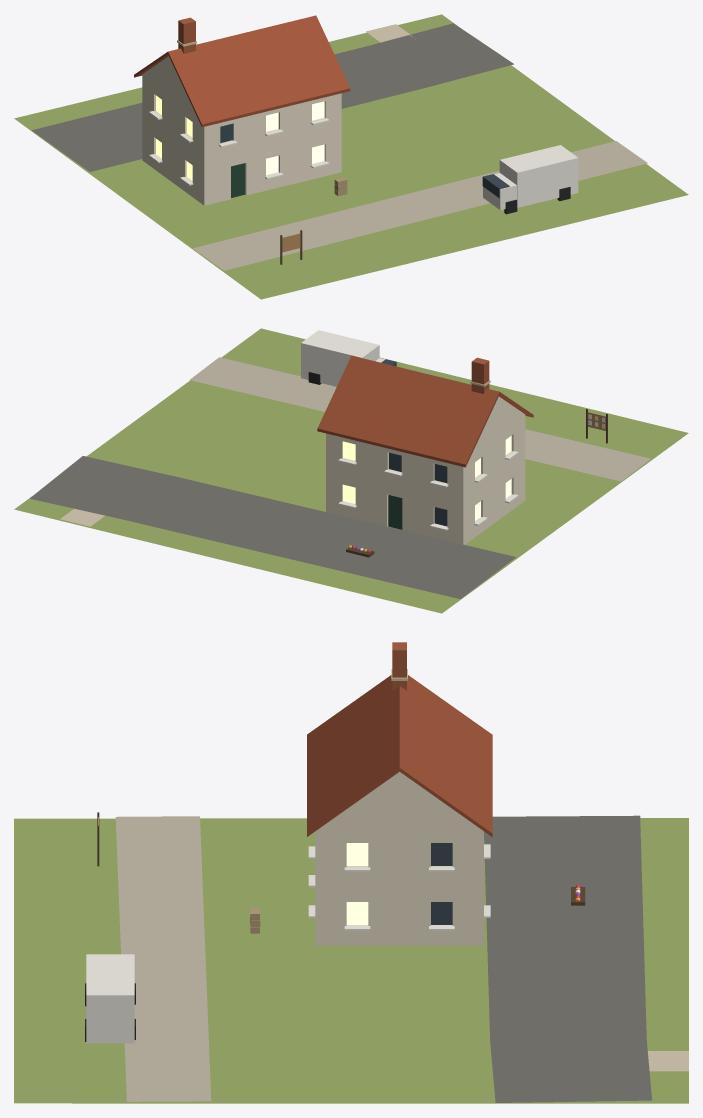
Rendered from tea_room-evening.glb.
The picture shows the model from 3 angles, top to bottom: view 1: azimuth 30°, elevation 25°; view 2: azimuth 150°, elevation 25°; view 3: azimuth 270°, elevation 25°; orthographic projection. The views are drawn at different scales.
Visible parts, largest first — view 1: ground, ground_lanes, tea_room_shell, cut_roof_tea_room, prop_van, tea_room_walls, prop_staffboard; view 2: ground, ground_lanes, tea_room_shell, cut_roof_tea_room, prop_van, tea_room_walls; view 3: ground, ground_lanes, tea_room_shell, cut_roof_tea_room, prop_van, tea_room_walls.
Boxes of the visible parts, <box> form: ground: <box>14,14,688,299</box>; ground_lanes: <box>31,23,647,270</box>; tea_room_shell: <box>142,56,341,205</box>; cut_roof_tea_room: <box>134,15,350,127</box>; prop_van: <box>482,145,578,214</box>; tea_room_walls: <box>149,95,329,197</box>; prop_staffboard: <box>280,230,302,264</box>; ground: <box>14,328,688,613</box>; ground_lanes: <box>30,357,650,599</box>; tea_room_shell: <box>326,396,525,544</box>; cut_roof_tea_room: <box>317,355,533,467</box>; prop_van: <box>301,330,396,386</box>; tea_room_walls: <box>338,435,518,530</box>; ground: <box>14,818,688,1103</box>; ground_lanes: <box>115,815,688,1102</box>; tea_room_shell: <box>315,771,483,945</box>; cut_roof_tea_room: <box>307,642,492,836</box>; prop_van: <box>85,954,135,1043</box>; tea_room_walls: <box>308,843,490,930</box>.
Bounding box in the file's own units: 28.16 × 10.16 × 28.
